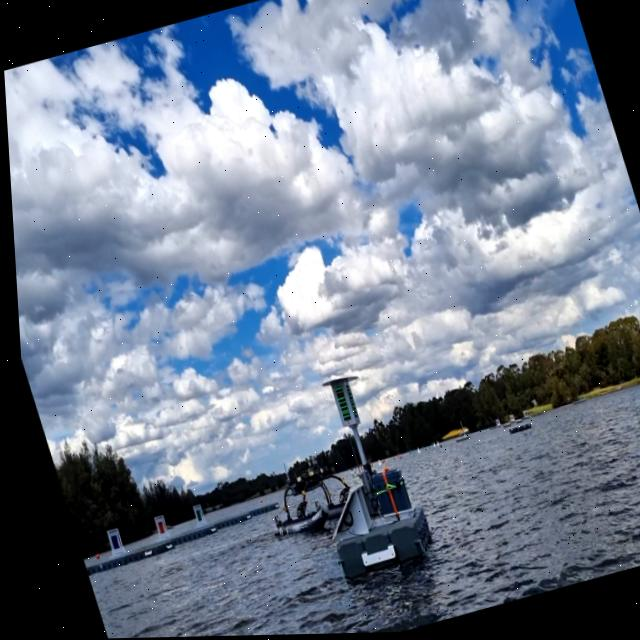led: (326, 383, 348, 426)
